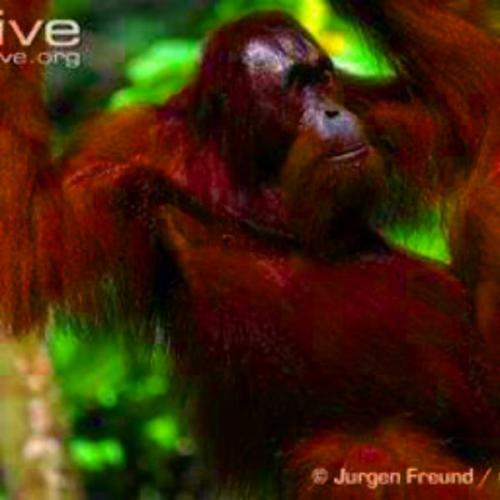orangutan-endangered: (78, 8, 484, 424)
